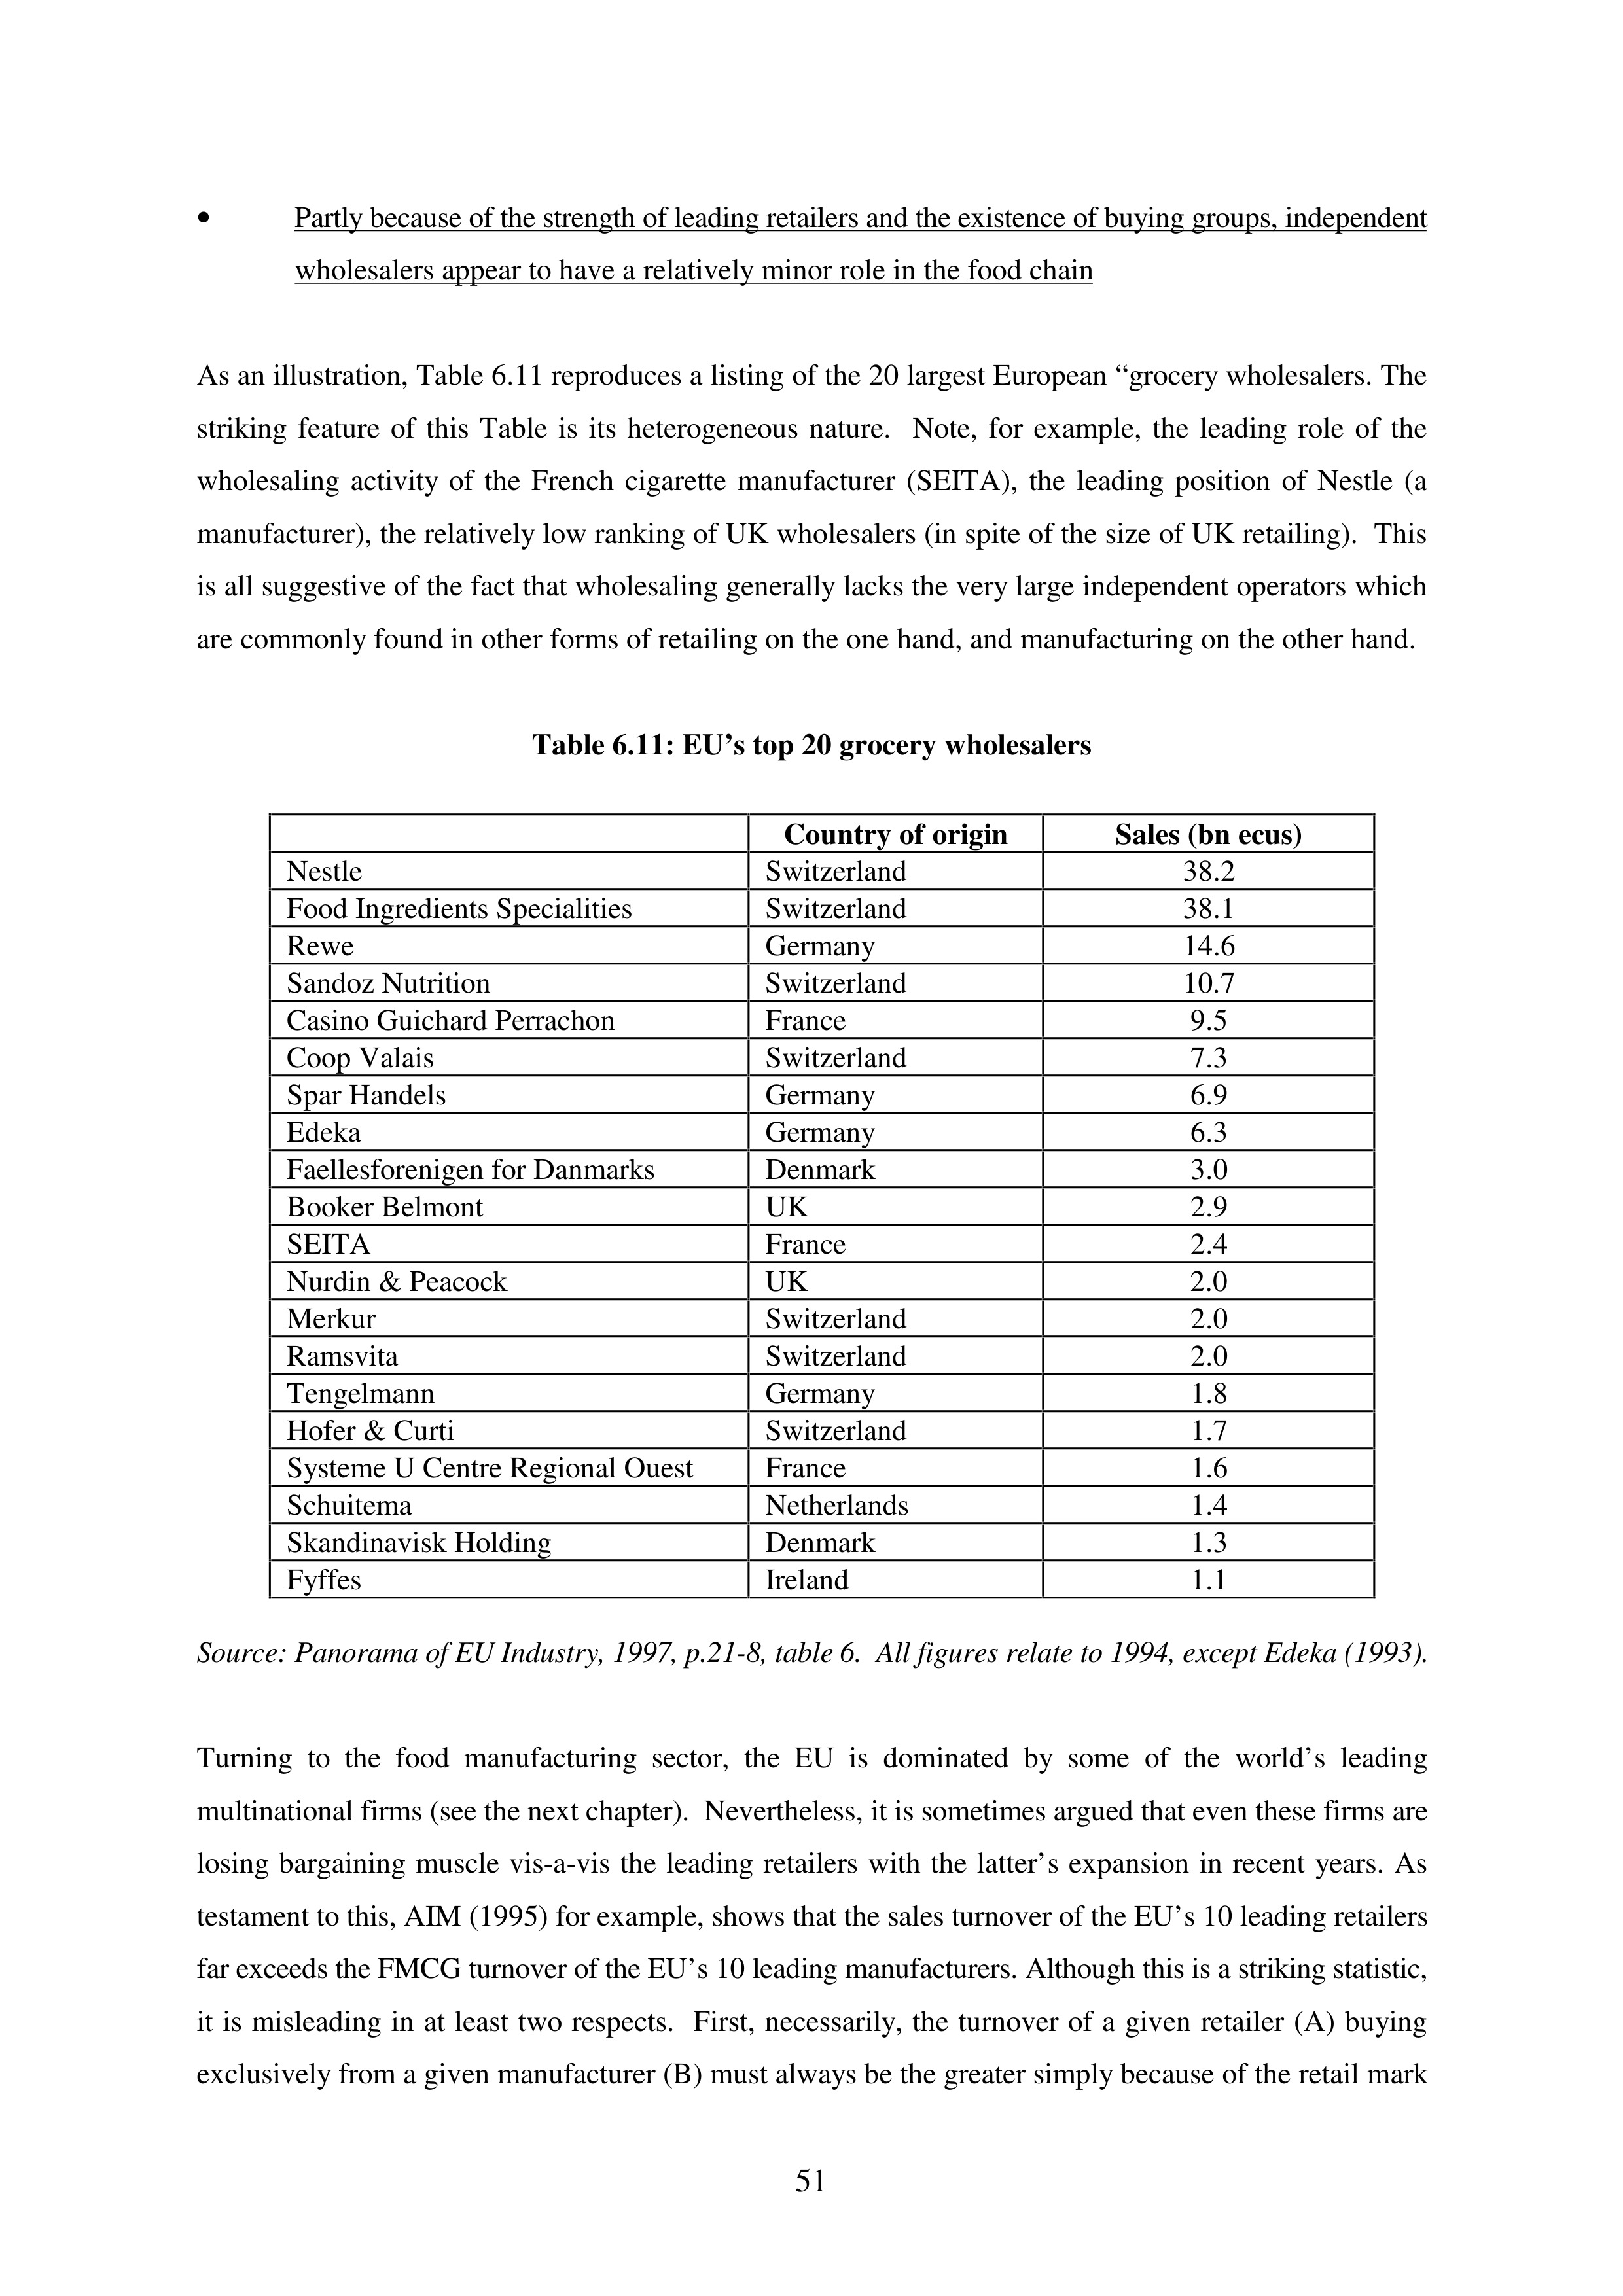table: (286, 813, 1303, 1597)
